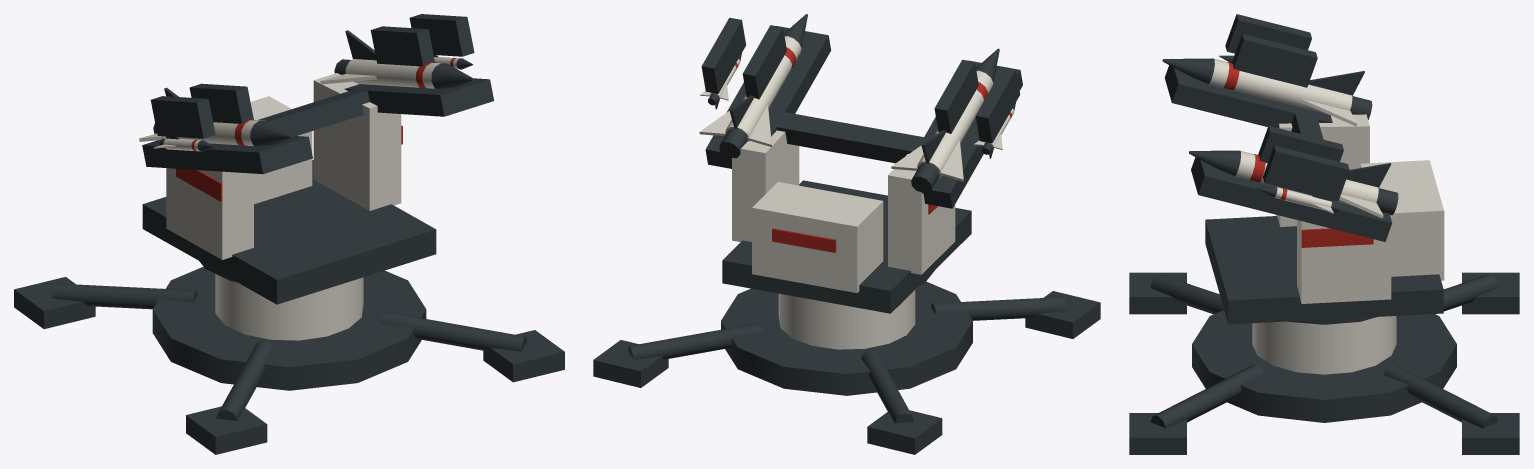
3 renders of one model, left to right at view 1: azimuth 30°, elevation 25°; view 2: azimuth 150°, elevation 25°; view 3: azimuth 270°, elevation 25°, orthographic. The views are drawn at different scales.
Visible parts, largest first — view 1: aa-missile-auto-fleet-machine, elevation-fleet-machine, turret-fleet-machine, turret-fleet-armor, aa-missile-auto-fleet-armor, store-right-large-painted, store-left-large-painted, turret-fleet-red, store-left-small-painted; view 2: aa-missile-auto-fleet-machine, turret-fleet-armor, elevation-fleet-machine, turret-fleet-machine, aa-missile-auto-fleet-armor, store-left-large-painted, store-right-large-painted, turret-fleet-red; view 3: aa-missile-auto-fleet-machine, elevation-fleet-machine, turret-fleet-armor, turret-fleet-machine, aa-missile-auto-fleet-armor, store-left-large-painted, store-right-large-painted, turret-fleet-red, store-right-small-painted.
Boxes of the visible parts, <box> form: aa-missile-auto-fleet-machine: <box>14,261,564,454</box>; elevation-fleet-machine: <box>142,14,494,174</box>; turret-fleet-machine: <box>142,160,436,304</box>; turret-fleet-armor: <box>166,73,401,259</box>; aa-missile-auto-fleet-armor: <box>215,274,363,340</box>; store-right-large-painted: <box>320,30,473,88</box>; store-left-large-painted: <box>139,87,292,170</box>; turret-fleet-red: <box>176,125,402,201</box>; store-left-small-painted: <box>153,136,214,159</box>; aa-missile-auto-fleet-machine: <box>593,270,1100,454</box>; turret-fleet-armor: <box>732,130,955,292</box>; elevation-fleet-machine: <box>701,17,1022,208</box>; turret-fleet-machine: <box>722,180,971,313</box>; aa-missile-auto-fleet-armor: <box>778,290,915,349</box>; store-left-large-painted: <box>891,48,999,193</box>; store-right-large-painted: <box>699,14,807,158</box>; turret-fleet-red: <box>772,204,937,252</box>; aa-missile-auto-fleet-machine: <box>1129,272,1519,454</box>; elevation-fleet-machine: <box>1164,14,1392,241</box>; turret-fleet-armor: <box>1276,114,1444,303</box>; turret-fleet-machine: <box>1205,216,1443,324</box>; aa-missile-auto-fleet-armor: <box>1252,316,1396,374</box>; store-left-large-painted: <box>1162,58,1372,126</box>; store-right-large-painted: <box>1189,150,1398,218</box>; turret-fleet-red: <box>1301,228,1373,247</box>; store-right-small-painted: <box>1257,187,1339,220</box>.
Size of the model in its own units: 22.63 by 18.75 by 22.63.
